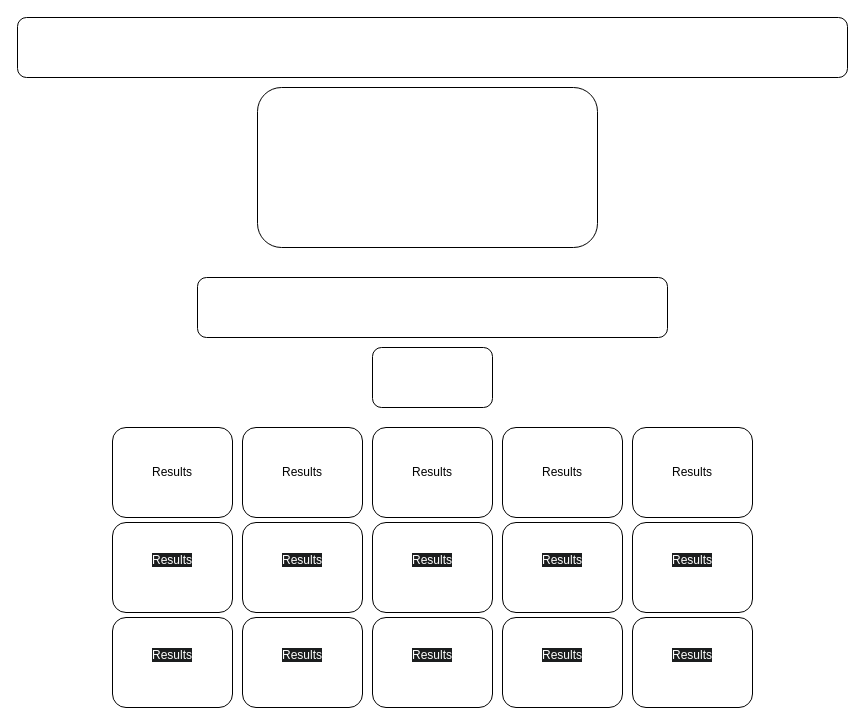
Image size: 865x725. Some labels were removed from this diagram. Here are the shapes that lost their labels. From the top down, the box of each, then its label:
(16, 16, 848, 78): Name of Site / Navbar
(256, 86, 598, 248): Giphy Logo
(196, 276, 668, 338): Search Bar
(372, 346, 492, 408): Submit
